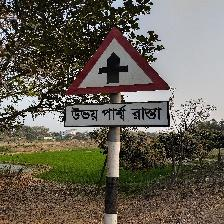Crossroad: (60, 23, 180, 134)
